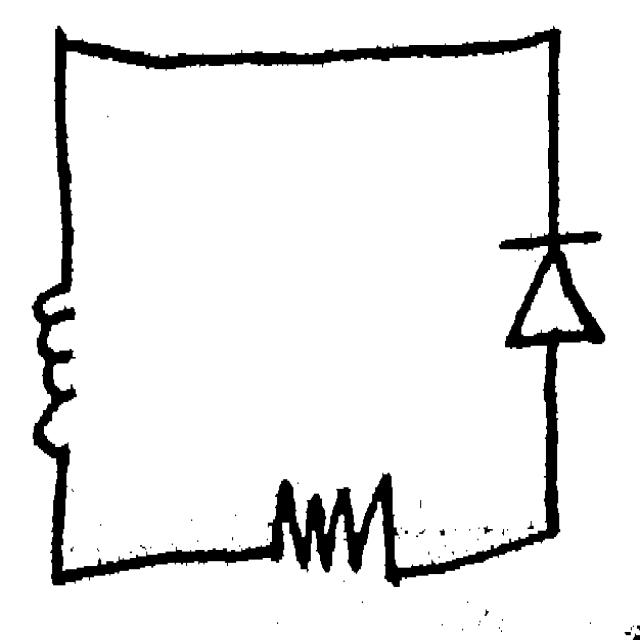diode: (487, 209, 614, 369)
inductor: (17, 250, 97, 481)
resistor: (258, 454, 414, 608)
